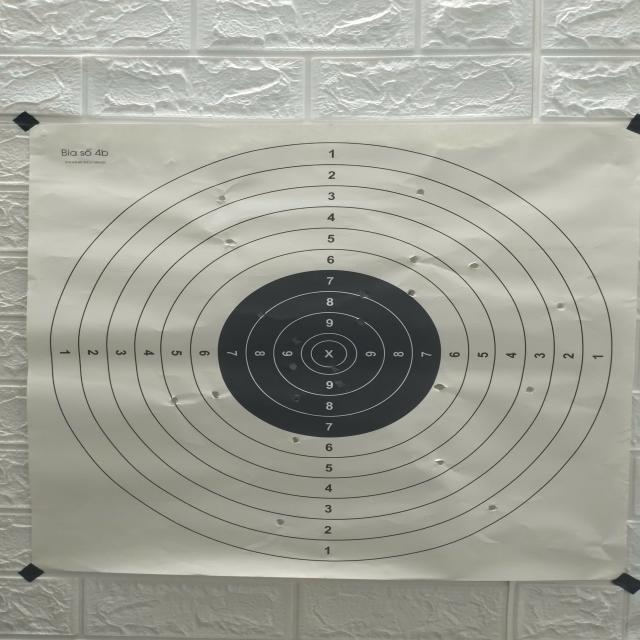bullet: (223, 238, 237, 247), (433, 383, 447, 391), (330, 364, 340, 373), (488, 504, 498, 512), (434, 458, 444, 466), (291, 336, 300, 344), (409, 256, 419, 263), (556, 303, 566, 310), (291, 436, 299, 444), (416, 188, 425, 195), (217, 195, 226, 202), (358, 291, 367, 298), (292, 395, 301, 402), (525, 386, 534, 393), (407, 289, 415, 296), (356, 318, 364, 325), (289, 363, 297, 370), (212, 391, 220, 398), (171, 396, 178, 404), (276, 518, 283, 526), (335, 381, 344, 387), (468, 263, 478, 268), (258, 312, 264, 318)
target: (28, 124, 640, 581)
